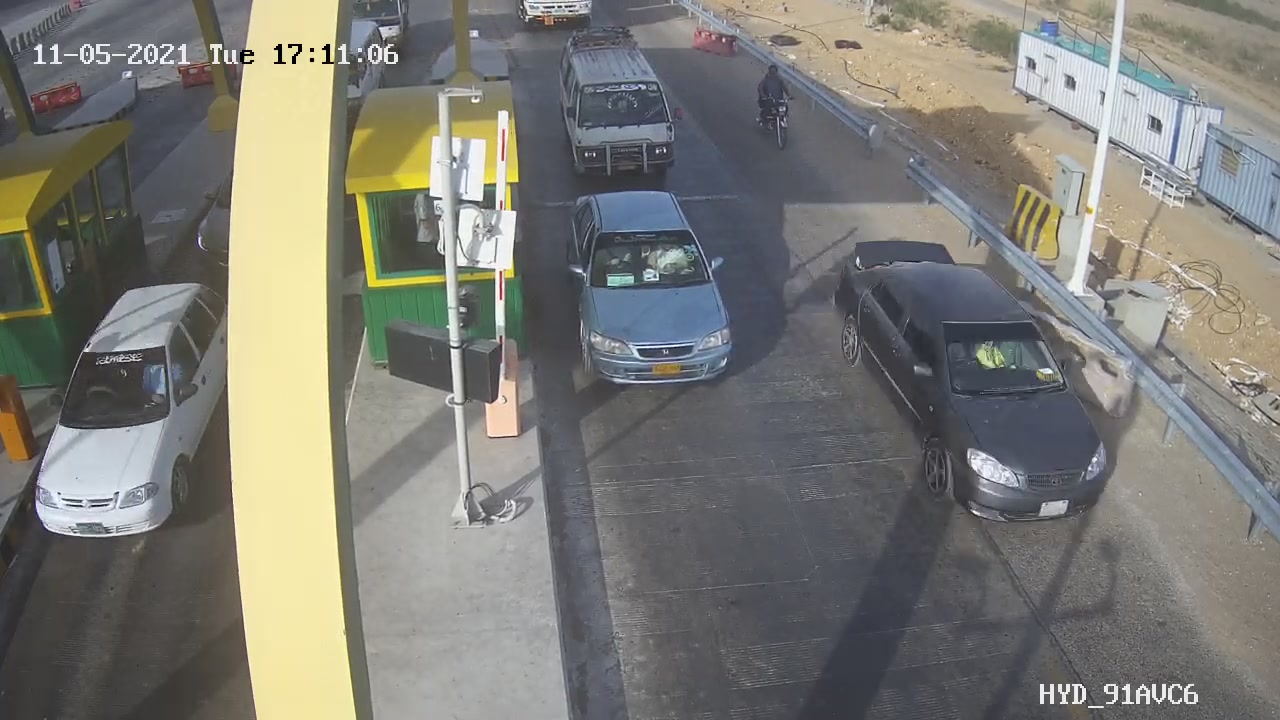F1: (546, 176, 737, 396)
F2: (542, 14, 695, 191)
